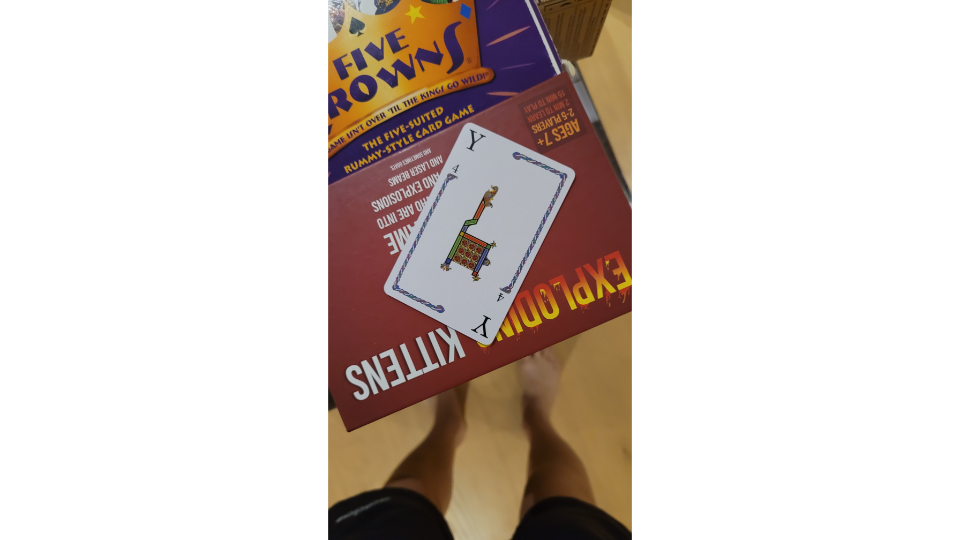Y: (381, 120, 579, 347)
